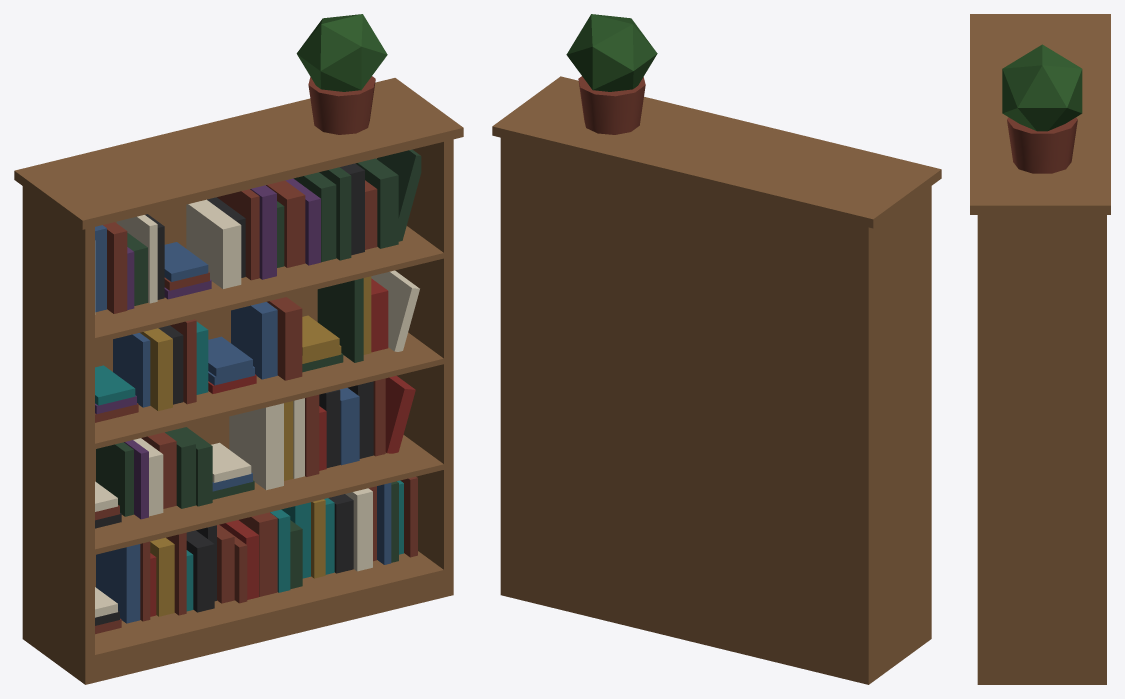
Rendered from bookshelf.glb.
3 views of the same model, side by side, from view 1: azimuth 30°, elevation 25°; view 2: azimuth 150°, elevation 25°; view 3: azimuth 270°, elevation 25° (orthographic). The views are drawn at different scales.
Visible parts, largest first — view 1: bookshelf; view 2: bookshelf; view 3: bookshelf.
Boxes of the visible parts, x1=… form: bookshelf: x1=14, y1=14, x2=463, y2=684; bookshelf: x1=492, y1=14, x2=941, y2=684; bookshelf: x1=970, y1=14, x2=1110, y2=684.
Size of the model in its own units: 4.34 by 6.23 by 1.35.
